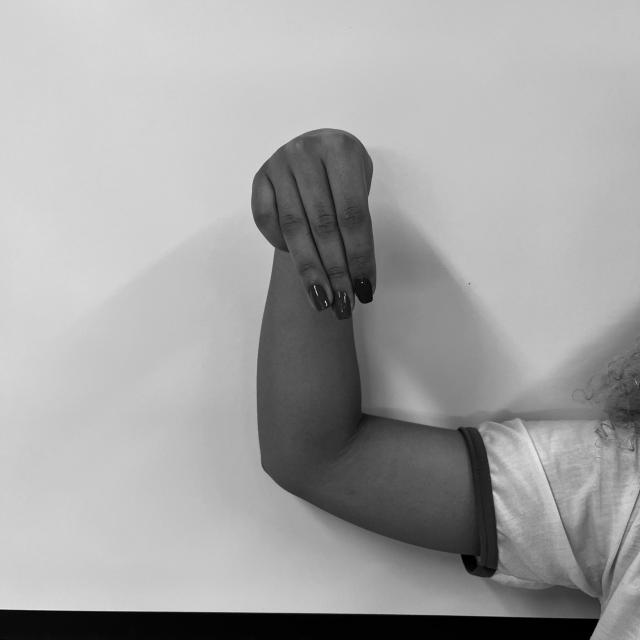Letra M: (247, 123, 383, 324)
